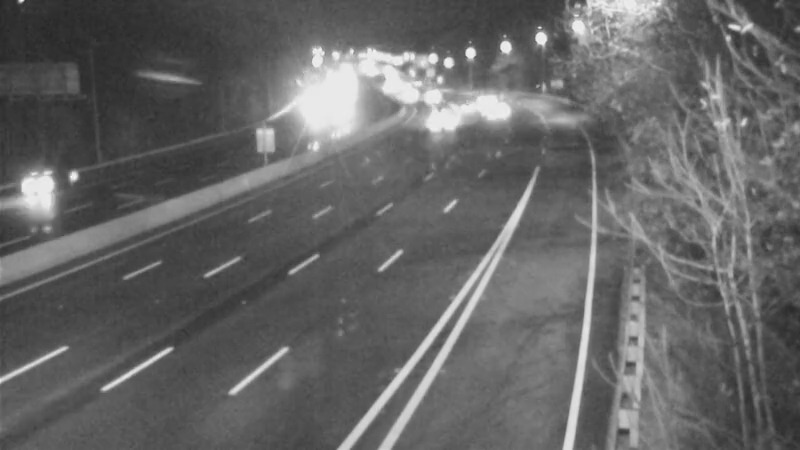vehicle: (1, 146, 77, 226), (382, 72, 432, 122), (434, 82, 484, 132), (459, 73, 509, 123), (468, 87, 518, 137), (419, 94, 469, 144)
